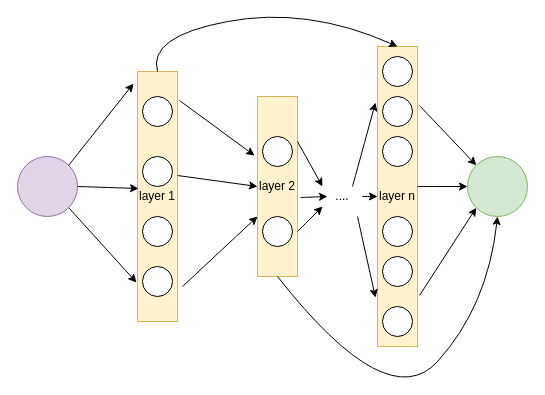
The diagram is 545 pixels wide and 395 high, and some of its shapes have lost their labels. Each missing label, with the centre of its shape:
"destination" goes at (x=497, y=186).
"source" goes at (x=47, y=186).
